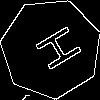H: (26, 23, 84, 78)
